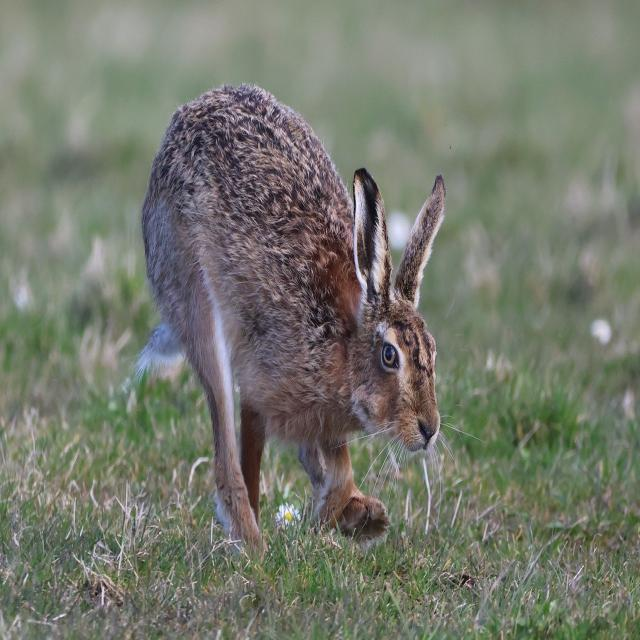Hare: (138, 80, 454, 562)
